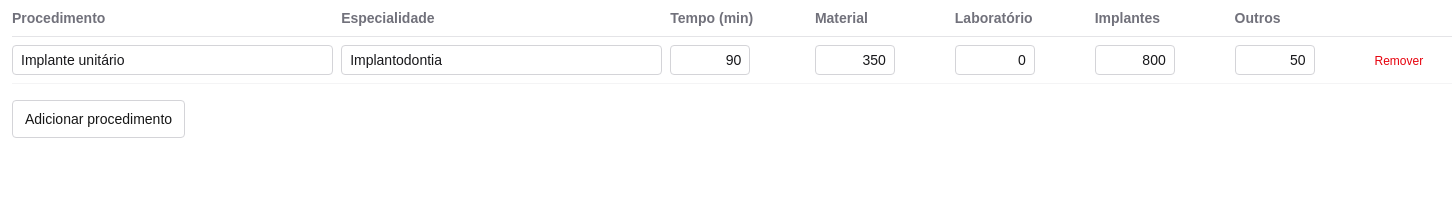
Test: StepProcedures › adds a new empty row when the add button is clicked
Expected: the number of fields named "Procedimento" is 1, left=12, top=45, right=333, bottom=75
Click the button "Adicionar procedimento": (99, 119) left=12, top=100, right=185, bottom=138
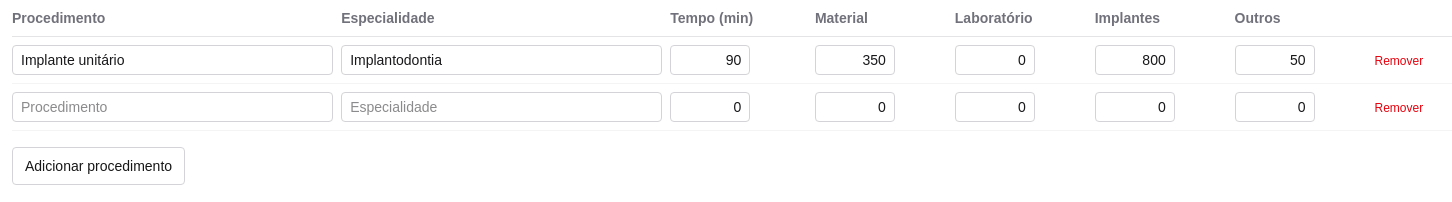
Expected: the number of fields named "Procedimento" is 2, left=12, top=45, right=333, bottom=75; left=12, top=92, right=333, bottom=122
